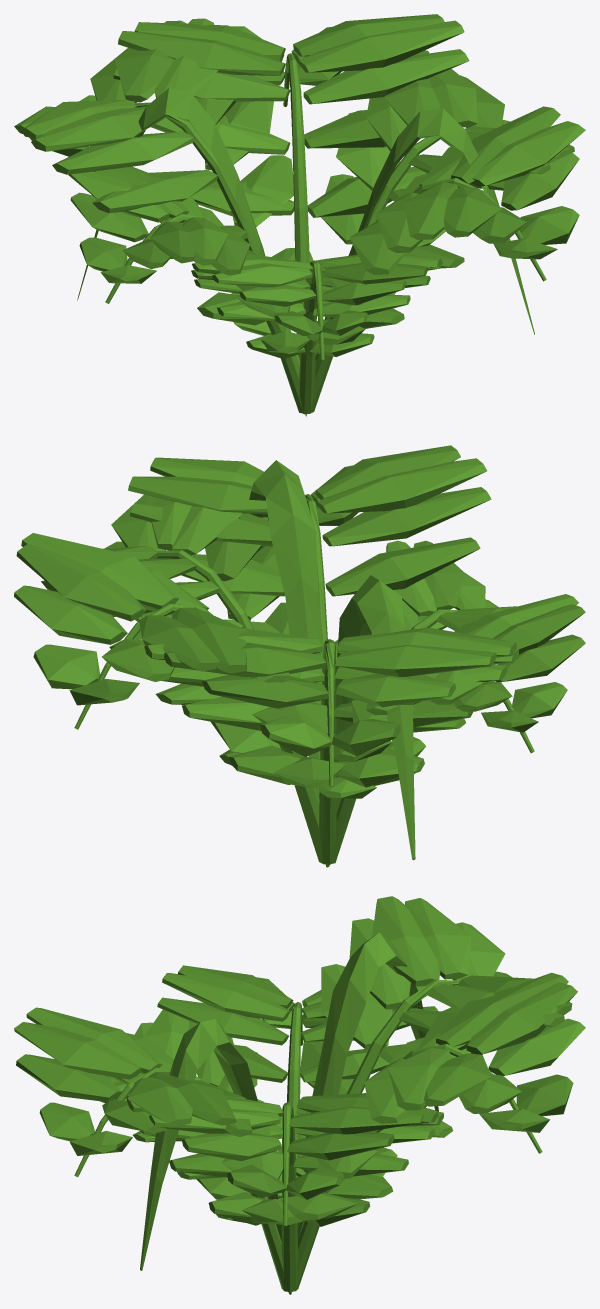
Rendered from 06_upright_fern.glb.
3 views of the same model, one above another, from view 1: azimuth 30°, elevation 25°; view 2: azimuth 150°, elevation 25°; view 3: azimuth 270°, elevation 25° (orthographic). The views are drawn at different scales.
Parts seen in each view (by area): view 1: 06_upright_fern; view 2: 06_upright_fern; view 3: 06_upright_fern.
Part boxes in pixels (x1,y1,x2,y2): 06_upright_fern: (14,14,585,416); 06_upright_fern: (14,445,585,867); 06_upright_fern: (14,896,585,1294).
Size of the model in its own units: 1.28 by 0.8526 by 1.39.
